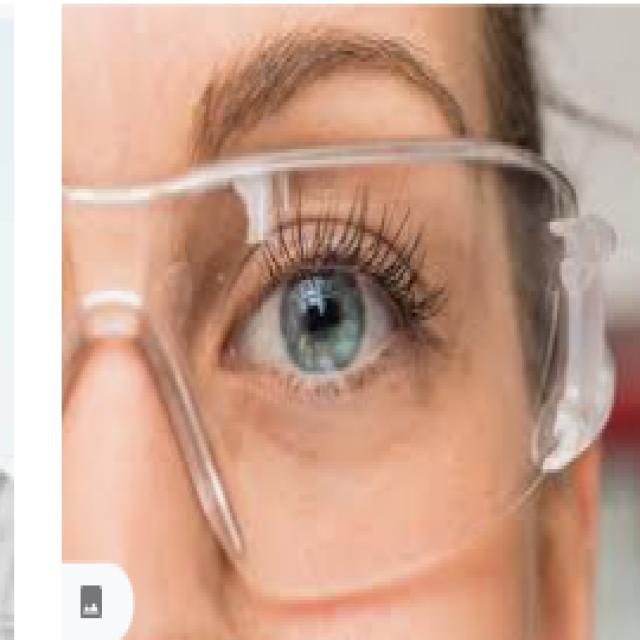glasses: (58, 136, 594, 559)
